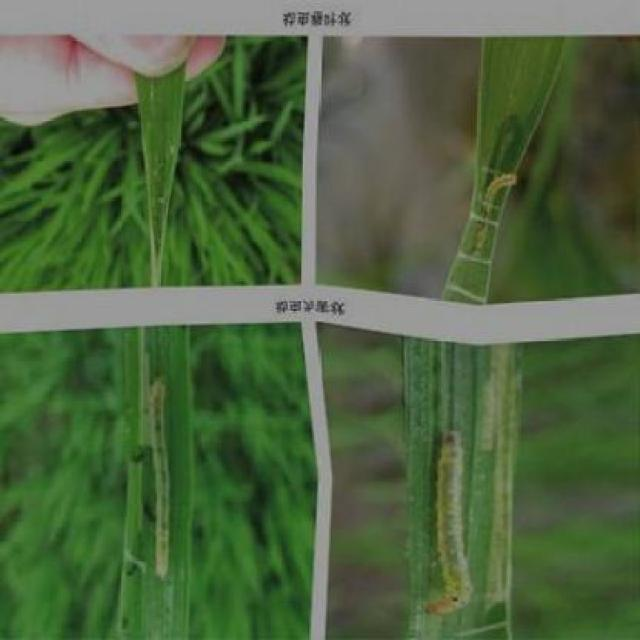leaf-folder: (423, 424, 495, 634), (131, 368, 192, 598), (454, 162, 531, 250)
